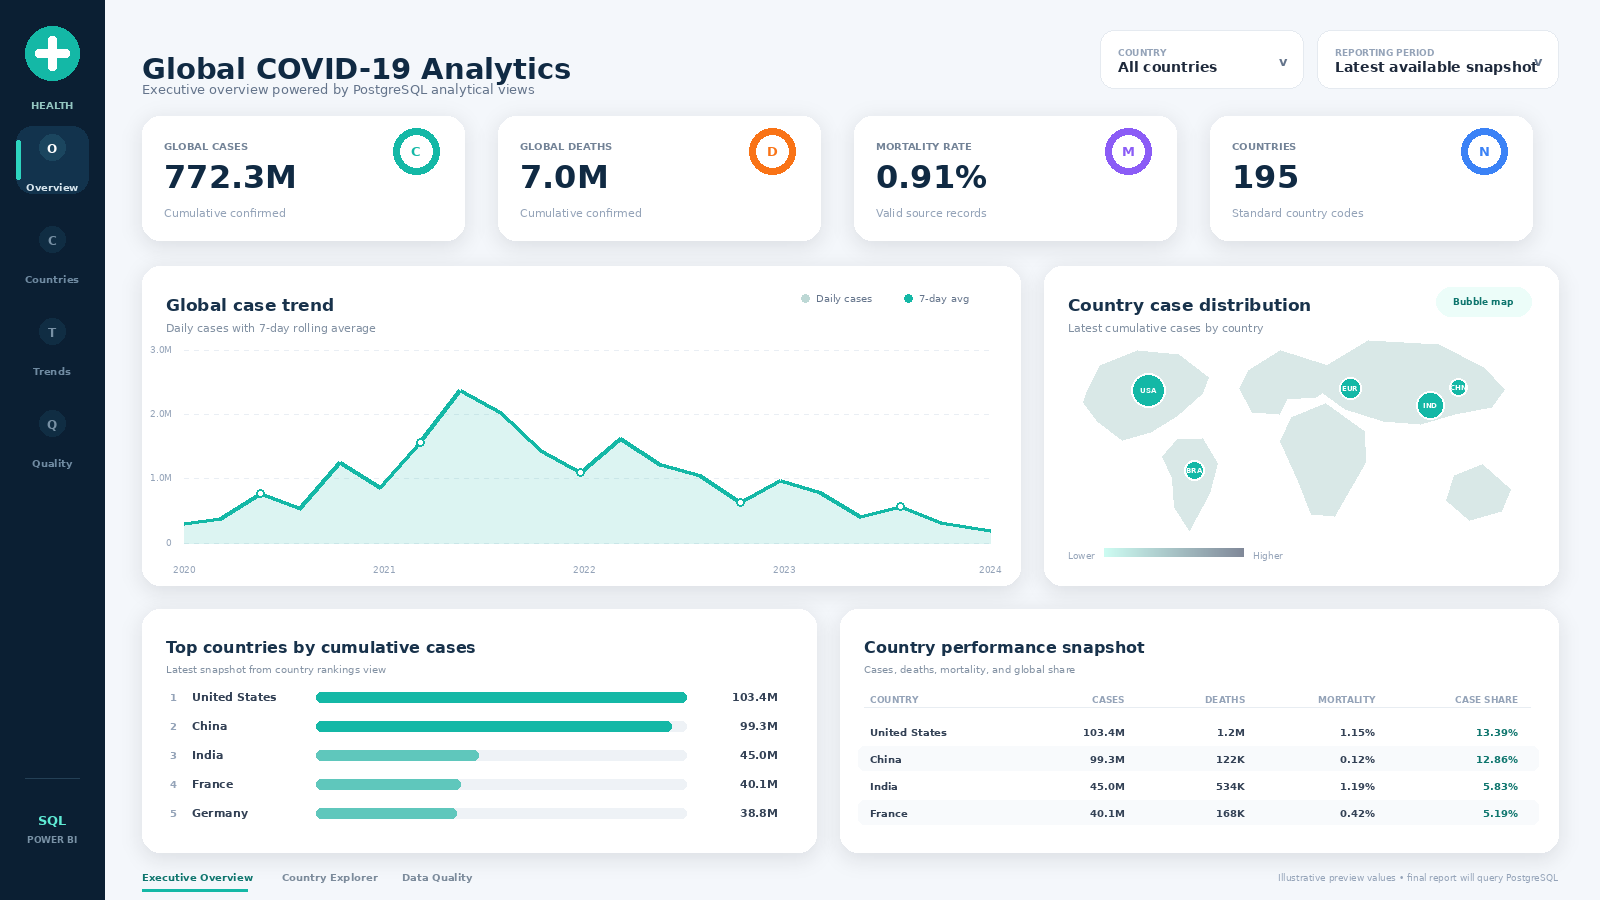

This screenshot's page, from the dashboard's own definition file:
{"tool":"powerbi","page":{"name":"Executive Overview","canvas":[1600,900],"ordinal":0},"visuals":[{"type":"cardVisual","fields":{"Data":["Global Trends.Global Cases"]},"box":[140,118,320,120],"z":0},{"type":"cardVisual","fields":{"Data":["Global Trends.Global Deaths"]},"box":[500,118,320,120],"z":1000},{"type":"cardVisual","fields":{"Data":["Global Trends.Global Mortality Rate"]},"box":[860,118,320,120],"z":2000},{"type":"cardVisual","fields":{"Data":["Country Performance.Reporting Countries"]},"box":[1220,118,320,120],"z":3000},{"type":"lineChart","fields":{"Category":["Global Trends.Date"],"Y":["Global Trends.Global Daily Cases","Global Trends.Global 7D Avg Cases"]},"box":[140,300,880,270],"z":4000},{"type":"map","fields":{"Category":["Country Performance.Country"],"Size":["Country Performance.Country Total Cases"]},"box":[1040,300,500,270],"z":5000},{"type":"barChart","fields":{"Category":["Country Rankings.Country"],"Y":["Country Rankings.Ranking Cases"]},"box":[140,630.7,650,220],"z":6000},{"type":"tableEx","fields":{"Values":["Country Rankings.Country","Country Rankings.Ranking Cases","Country Rankings.Ranking Deaths","Country Rankings.Ranking Mortality","Country Rankings.Ranking Case Share"]},"box":[820,630,720,220],"z":7000},{"type":"textbox","box":[140,24,850,72],"z":8000},{"type":"slicer","fields":{"Values":["Country.Country"]},"box":[1120,30,420,64],"z":9000},{"type":"textbox","box":[156,265,600,34],"z":10000},{"type":"textbox","box":[1056,265,450,34],"z":11000},{"type":"textbox","box":[156,595,600,34],"z":12000},{"type":"textbox","box":[836,595,620,34],"z":13000}]}

Visuals, with their boxes on the page's 1600x900 design canvas (x1, y1, x2, y2). These are canvas units, not pixel positions in the 1600x900 screenshot, which may show the page scaled, cropped or inside an application window:
cardVisual - Global Trends.Global Cases: x1=140, y1=118, x2=460, y2=238
cardVisual - Global Trends.Global Deaths: x1=500, y1=118, x2=820, y2=238
cardVisual - Global Trends.Global Mortality Rate: x1=860, y1=118, x2=1180, y2=238
cardVisual - Country Performance.Reporting Countries: x1=1220, y1=118, x2=1540, y2=238
lineChart - Global Trends.Date x Global Trends.Global Daily Cases: x1=140, y1=300, x2=1020, y2=570
map - Country Performance.Country x Country Performance.Country Total Cases: x1=1040, y1=300, x2=1540, y2=570
barChart - Country Rankings.Country x Country Rankings.Ranking Cases: x1=140, y1=631, x2=790, y2=851
tableEx - Country Rankings.Country x Country Rankings.Ranking Cases: x1=820, y1=630, x2=1540, y2=850
textbox: x1=140, y1=24, x2=990, y2=96
slicer - Country.Country: x1=1120, y1=30, x2=1540, y2=94
textbox: x1=156, y1=265, x2=756, y2=299
textbox: x1=1056, y1=265, x2=1506, y2=299
textbox: x1=156, y1=595, x2=756, y2=629
textbox: x1=836, y1=595, x2=1456, y2=629
